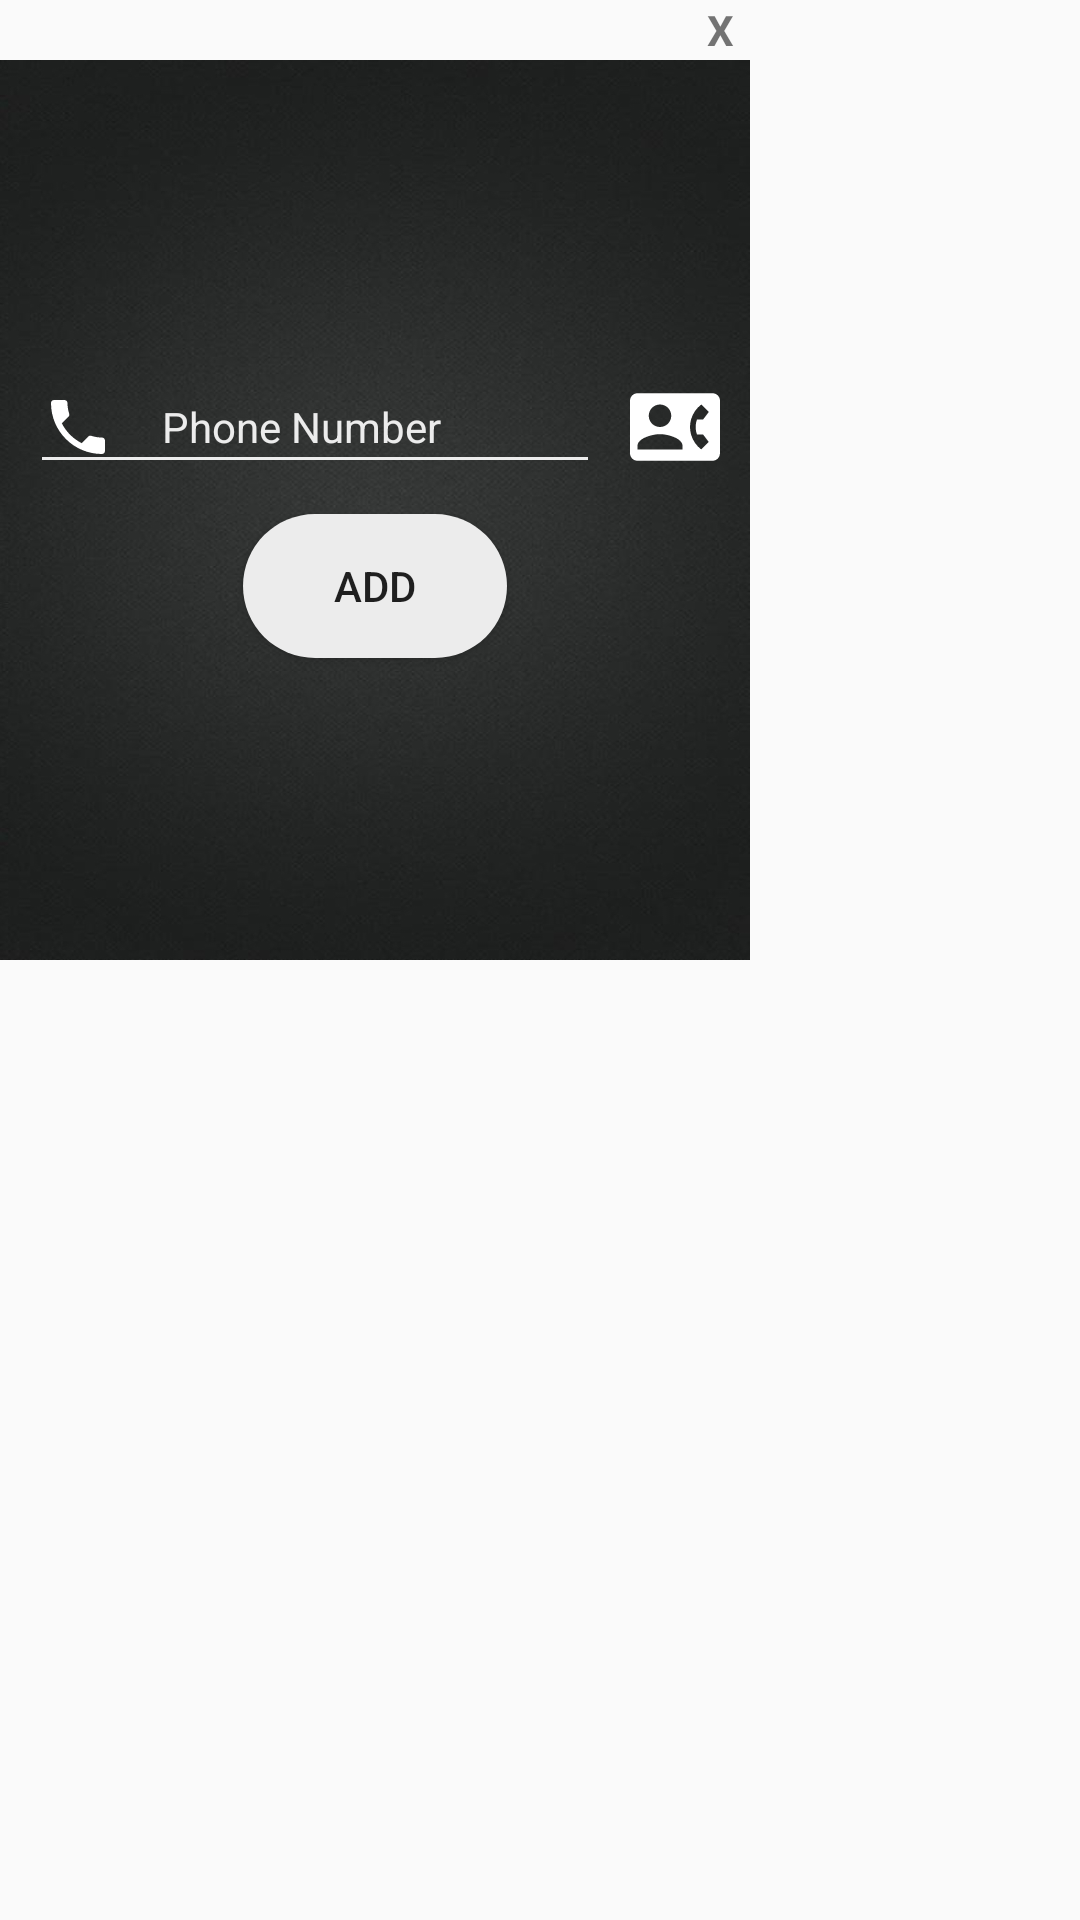

Where icons sit on this 1080 x 1920 app screen, as (x1, y1, x2, y2):
contact: (630, 393, 720, 461)
